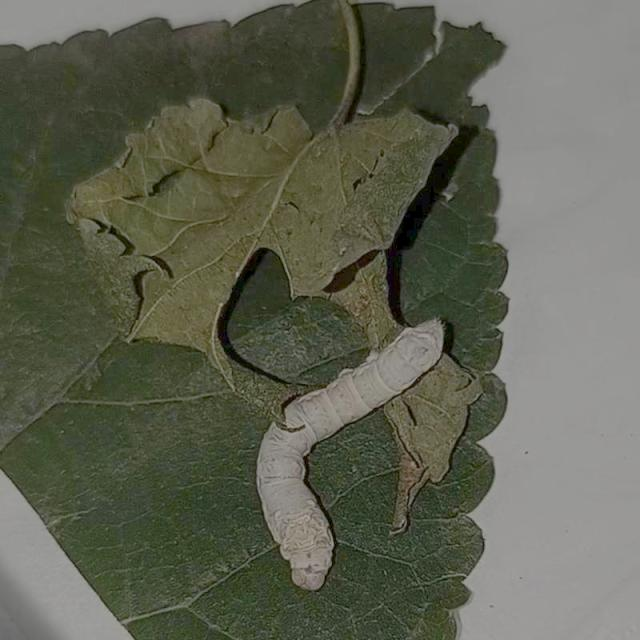Healthy: (248, 312, 452, 596)
